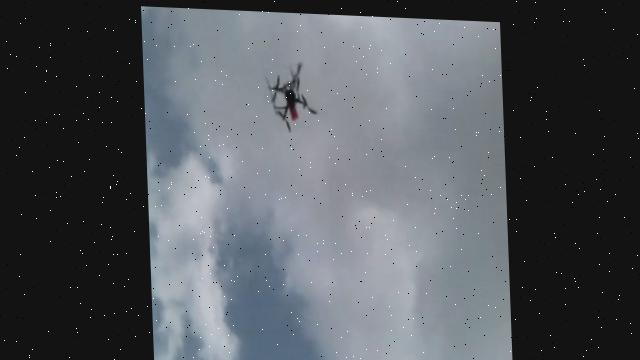drone: (264, 58, 319, 134)
